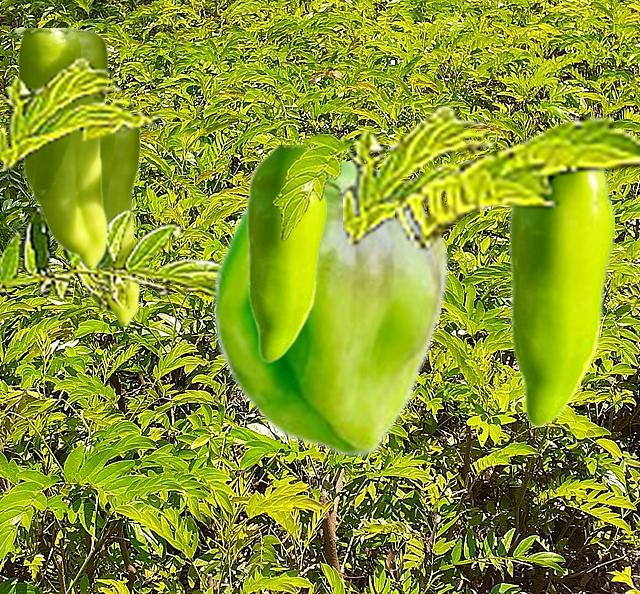green_chili: (212, 162, 449, 457), (508, 173, 613, 427), (13, 28, 107, 269), (246, 145, 325, 362), (90, 128, 139, 325)
